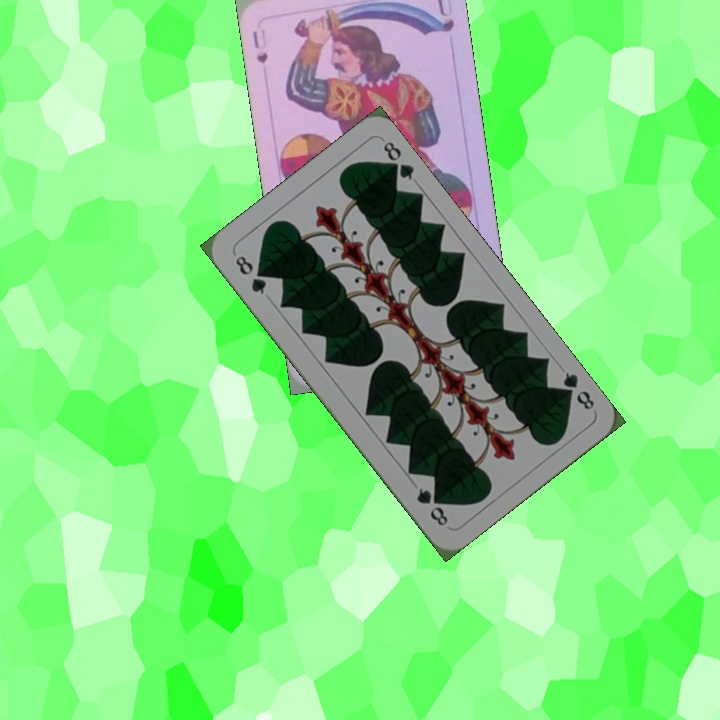G8: (555, 367, 597, 413), (231, 251, 269, 297)
SU: (248, 27, 270, 66)
